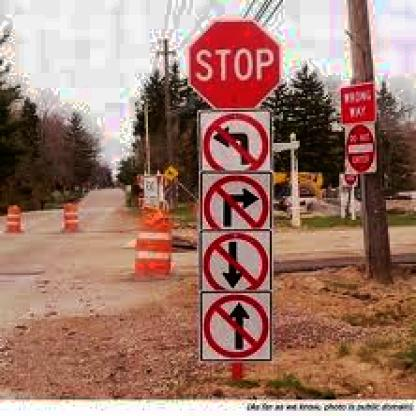No left turn: (199, 110, 270, 174)
